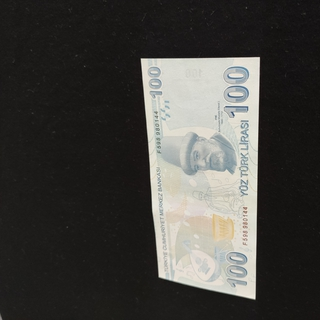100TLBack: (139, 56, 260, 300)
